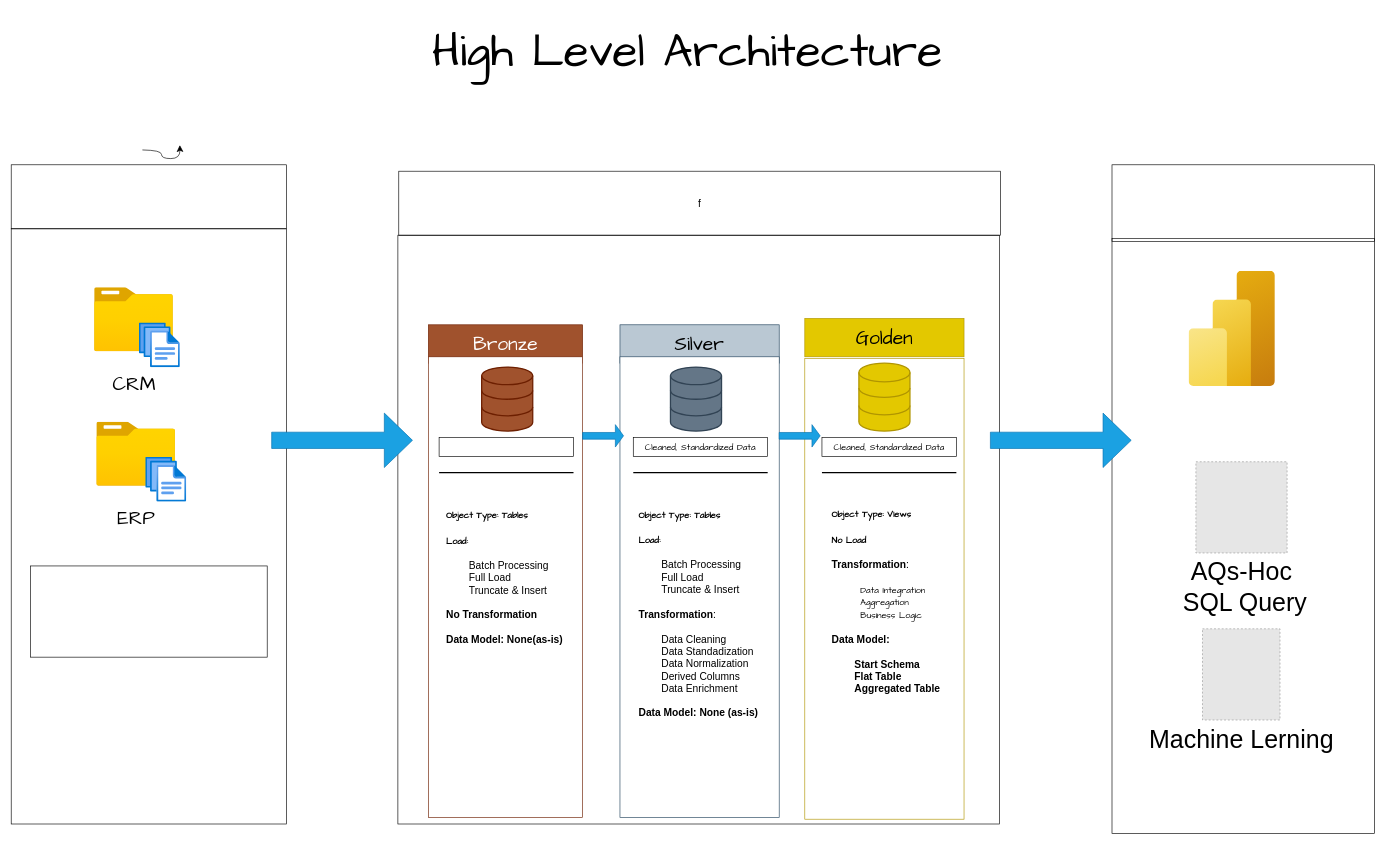
The diagram is 1386 pixels wide and 845 high, and some of its shapes have lost their labels. Grey dashed boxes stand in for pictures. Here are the shapes that lost their labels. From the top down, the centre of each, then its label:
At (148,196): "Source".
At (1242,203): "Consume".
At (1231,328): "BI & Reporting".
At (506,447): "Raw Data".
At (148,611): "Object Type: CVS Files Interface: Files In Folder".
